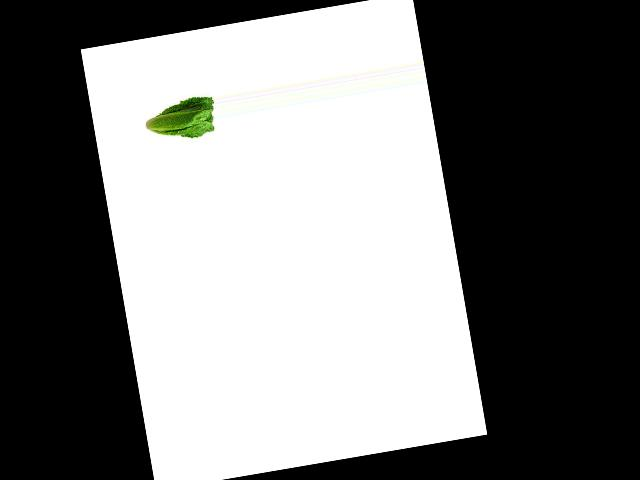lettuce: (140, 90, 220, 148)
